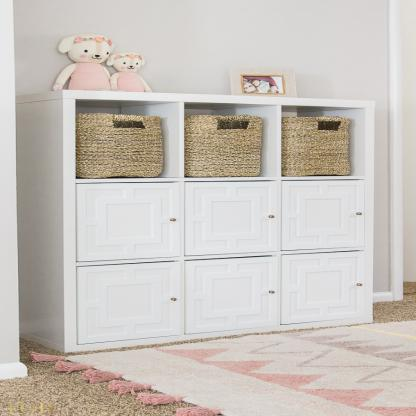lamp: (13, 88, 376, 356)
